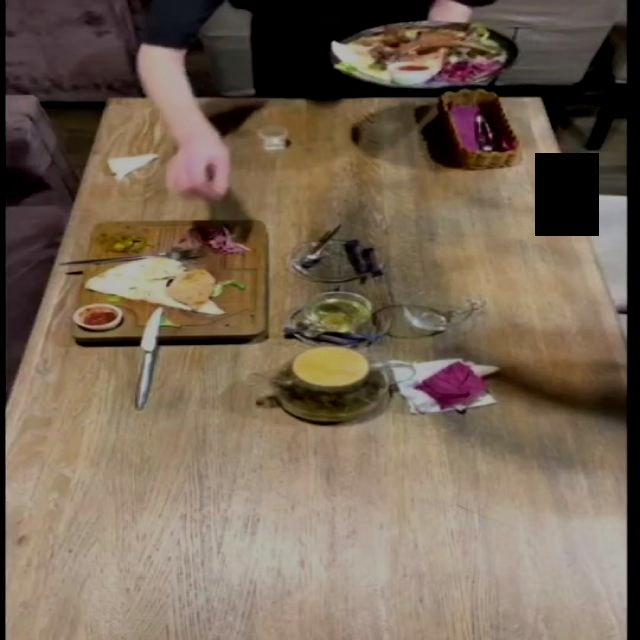meat: (70, 216, 274, 347), (347, 9, 522, 116)
tea: (255, 348, 413, 417)
